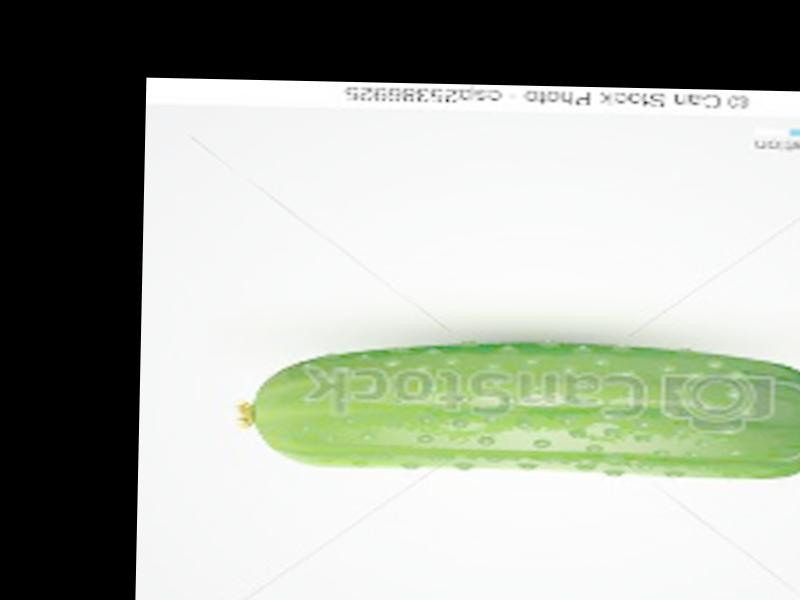Cucumber: (232, 338, 800, 483)
